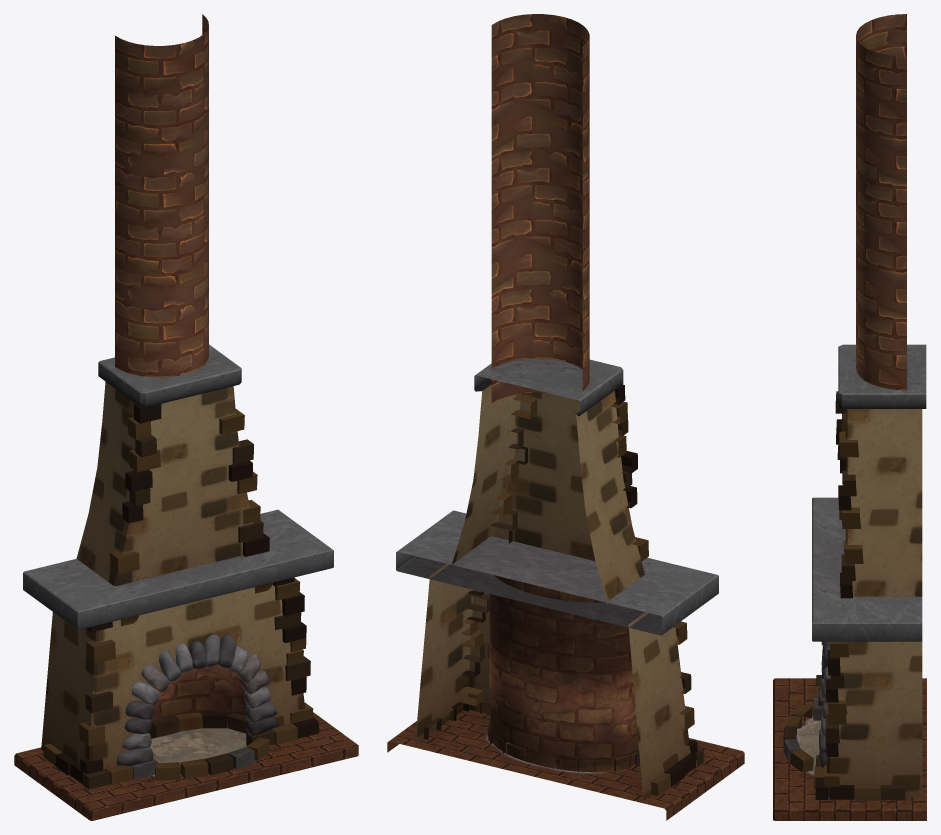
The model's file is fireplace.fbx.
3 views of the same model, side by side, from view 1: azimuth 30°, elevation 25°; view 2: azimuth 150°, elevation 25°; view 3: azimuth 270°, elevation 25° (orthographic). The views are drawn at different scales.
Parts seen in each view (by area): view 1: Fireplace; view 2: Fireplace; view 3: Fireplace.
Part boxes in pixels (box(x1,y1,x2,y2)): Fireplace: box(14, 14, 358, 820); Fireplace: box(387, 14, 744, 820); Fireplace: box(773, 14, 926, 820).
Size of the model in its own units: 397 by 1009 by 196.
